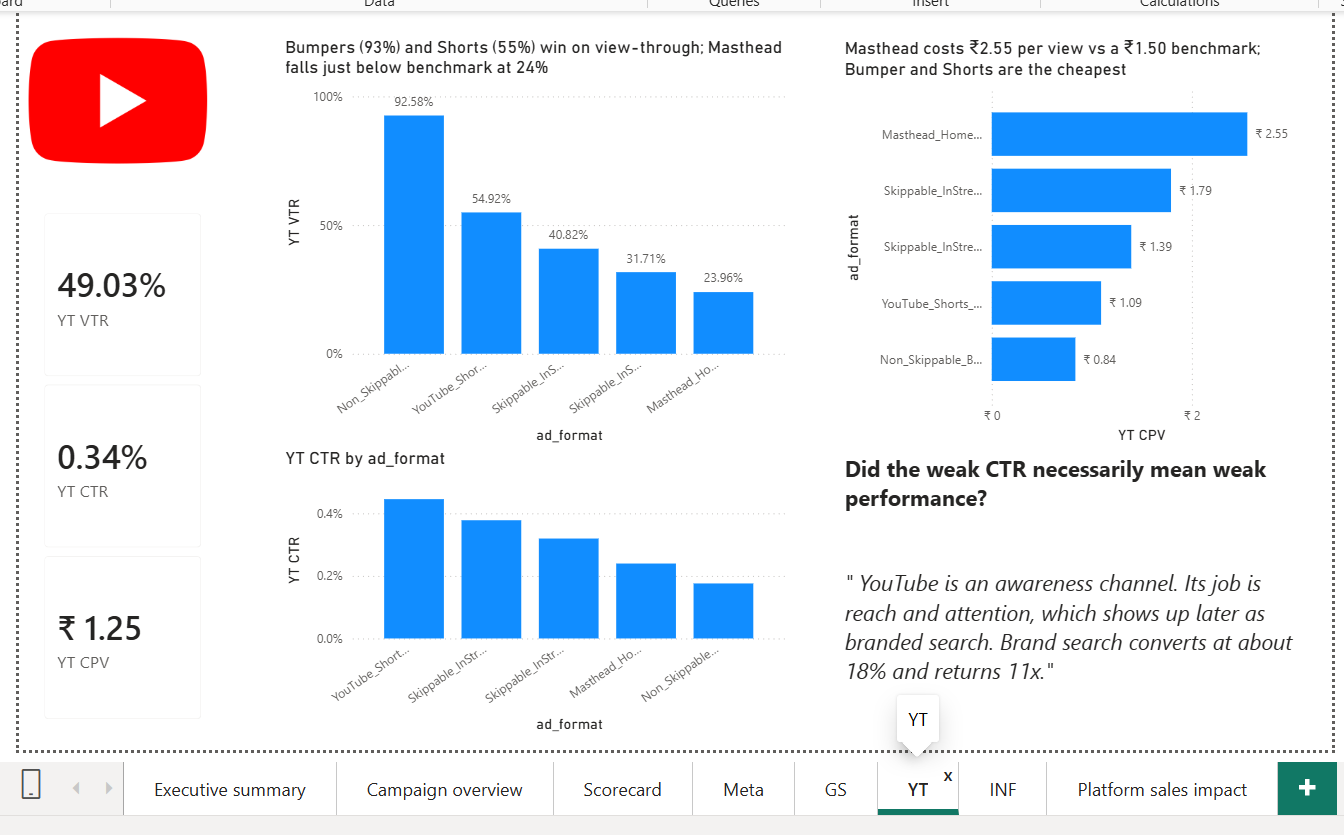

What the dashboard file says about the page in this screenshot:
{"tool":"powerbi","page":{"name":"YT","canvas":[1280,720],"ordinal":5},"visuals":[{"type":"image","box":[0,0,192.8,174.4],"z":0},{"type":"cardVisual","fields":{"Data":["KPI_Measures.YT VTR","KPI_Measures.YT CTR","KPI_Measures.YT CPV"]},"box":[6.7,179.4,187.8,528.2],"z":1000},{"type":"columnChart","title":"Bumpers (93%) and Shorts (55%) win on view-through; Masthead falls just below benchmark at 24%","fields":{"Category":["YouTube.ad_format"],"Y":["KPI_Measures.YT VTR"]},"box":[254.9,25.2,498,400.8],"z":2000},{"type":"clusteredBarChart","title":"Masthead costs ₹2.55 per view vs a ₹1.50 benchmark; Bumper and Shorts are the cheapest","fields":{"Category":["YouTube.ad_format"],"Y":["KPI_Measures.YT CPV"]},"box":[799.9,25.2,454.4,400.8],"z":3000},{"type":"columnChart","fields":{"Category":["YouTube.ad_format"],"Y":["KPI_Measures.YT CTR"]},"box":[254.9,425.9,498,281.7],"z":4000},{"type":"textbox","box":[800,426,454,282],"z":5000}]}

Visuals, with their boxes on the page's 1280x720 design canvas (x1, y1, x2, y2). These are canvas units, not pixel positions in the 1344x835 screenshot, which may show the page scaled, cropped or inside an application window:
image: region(0, 0, 193, 174)
cardVisual - KPI_Measures.YT VTR x KPI_Measures.YT CTR: region(7, 179, 194, 708)
"Bumpers (93%) and Shorts (55%) win on view-through; Masthead falls just below benchmark at 24%" columnChart: region(255, 25, 753, 426)
"Masthead costs ₹2.55 per view vs a ₹1.50 benchmark; Bumper and Shorts are the cheapest" clusteredBarChart: region(800, 25, 1254, 426)
columnChart - YouTube.ad_format x KPI_Measures.YT CTR: region(255, 426, 753, 708)
textbox: region(800, 426, 1254, 708)
